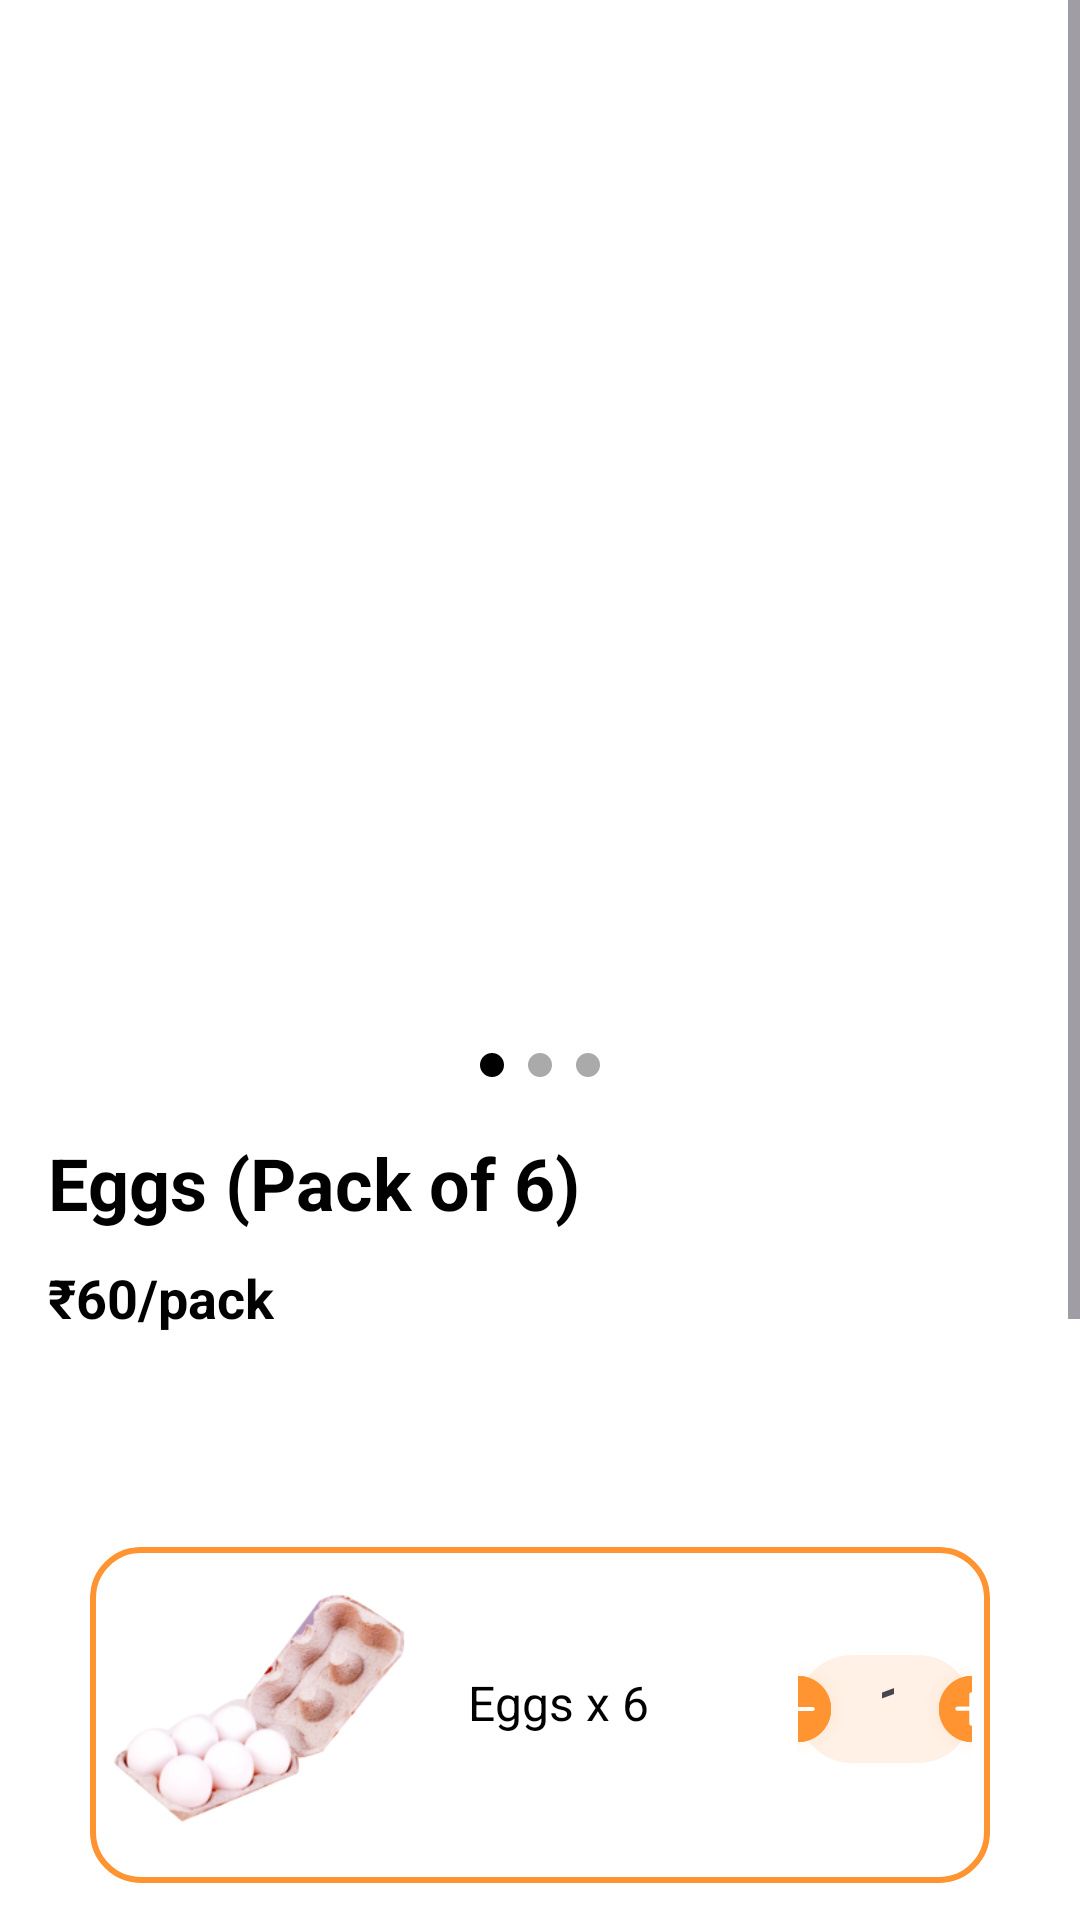

Point at icon controls on the screen. Image size 1080 × 1920, points as (x,y).
Active indicator: (492,1065)
Inactive indicator: (540,1065), (588,1065)
Product Image: (259,1708)
